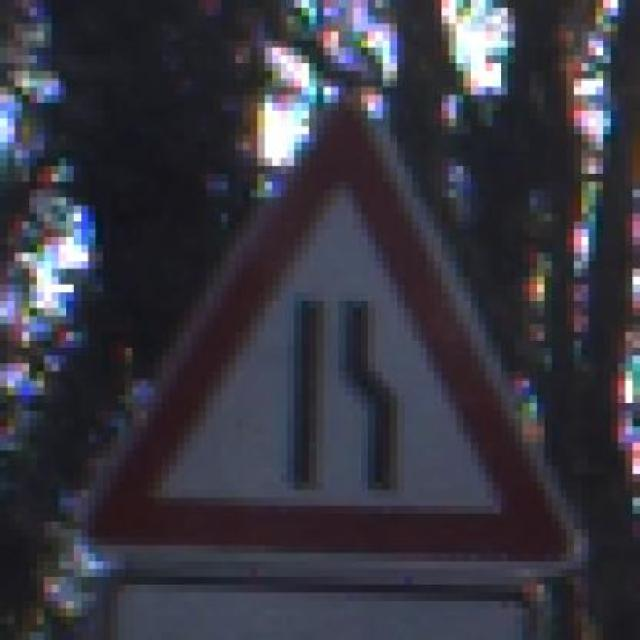-Road narrows on right: (44, 87, 604, 593)
